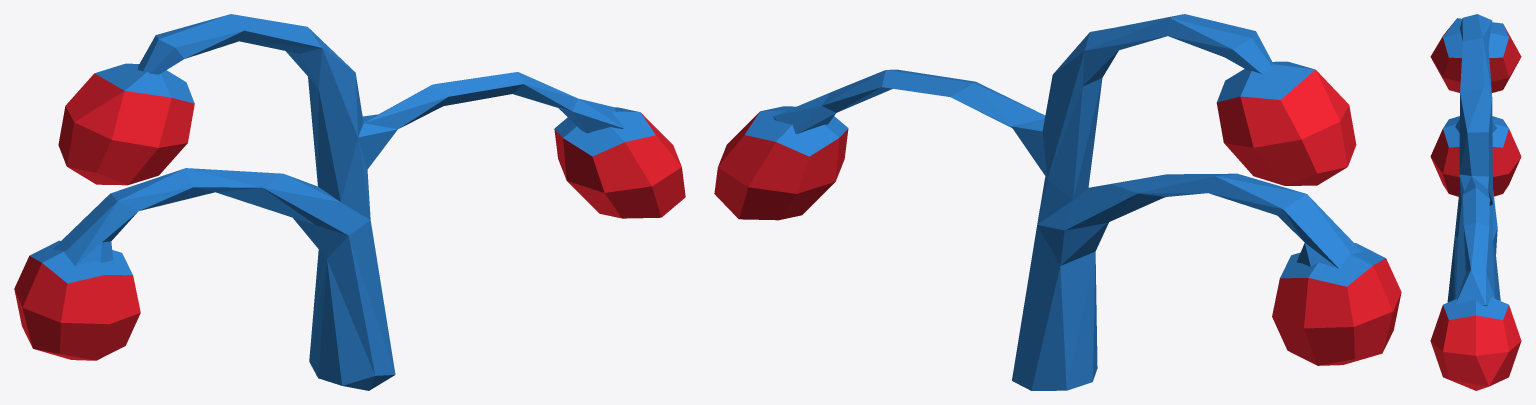
File: crystal_flower (4).fbx
3 renders of one model, left to right at view 1: azimuth 30°, elevation 25°; view 2: azimuth 150°, elevation 25°; view 3: azimuth 270°, elevation 25°, orthographic. The views are drawn at different scales.
Visible parts, largest first — view 1: Куб.003; view 2: Куб.003; view 3: Куб.003.
Part boxes in pixels (box(x1,y1,x2,y2)): Куб.003: box(14, 14, 685, 390); Куб.003: box(714, 14, 1401, 390); Куб.003: box(1430, 14, 1521, 390).
Bounding box in the file's own units: 989 × 569 × 168.
